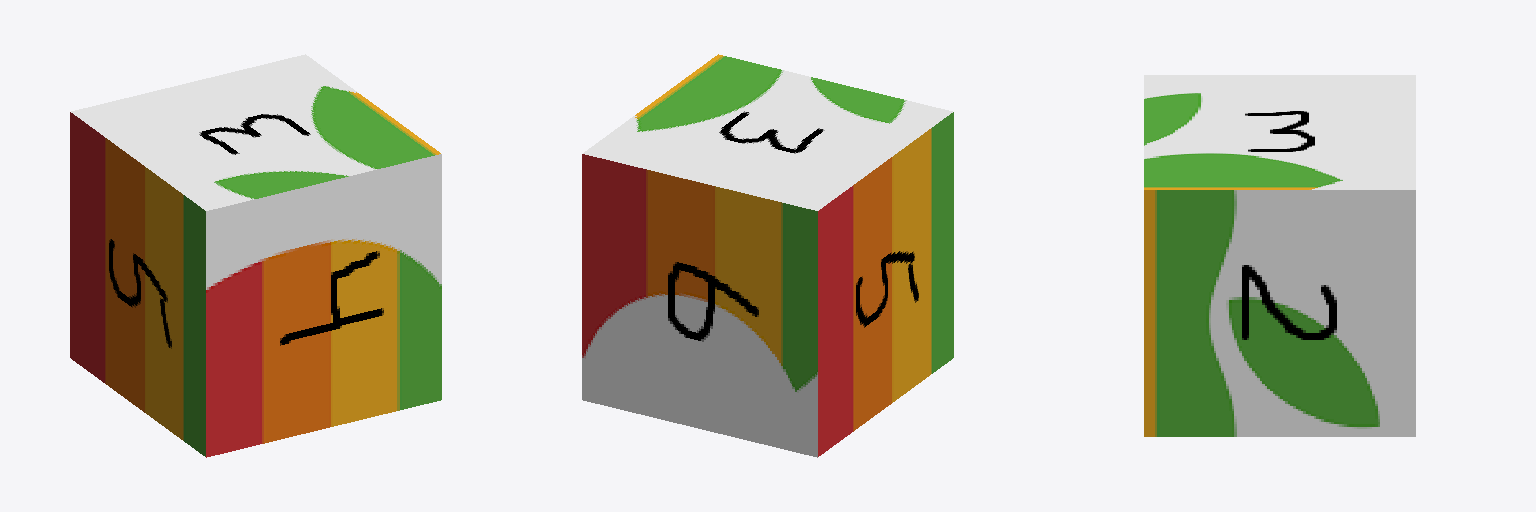
3 views of the same model, side by side, from view 1: azimuth 30°, elevation 25°; view 2: azimuth 150°, elevation 25°; view 3: azimuth 270°, elevation 25° (orthographic).
Visible parts, largest first — view 1: Cube; view 2: Cube; view 3: Cube.
Boxes of the visible parts, <box> form: Cube: <box>70,54,441,457</box>; Cube: <box>582,54,953,457</box>; Cube: <box>1144,75,1415,436</box>.
Size of the model in its own units: 2 by 2 by 2.
1 materials, 1 textured.